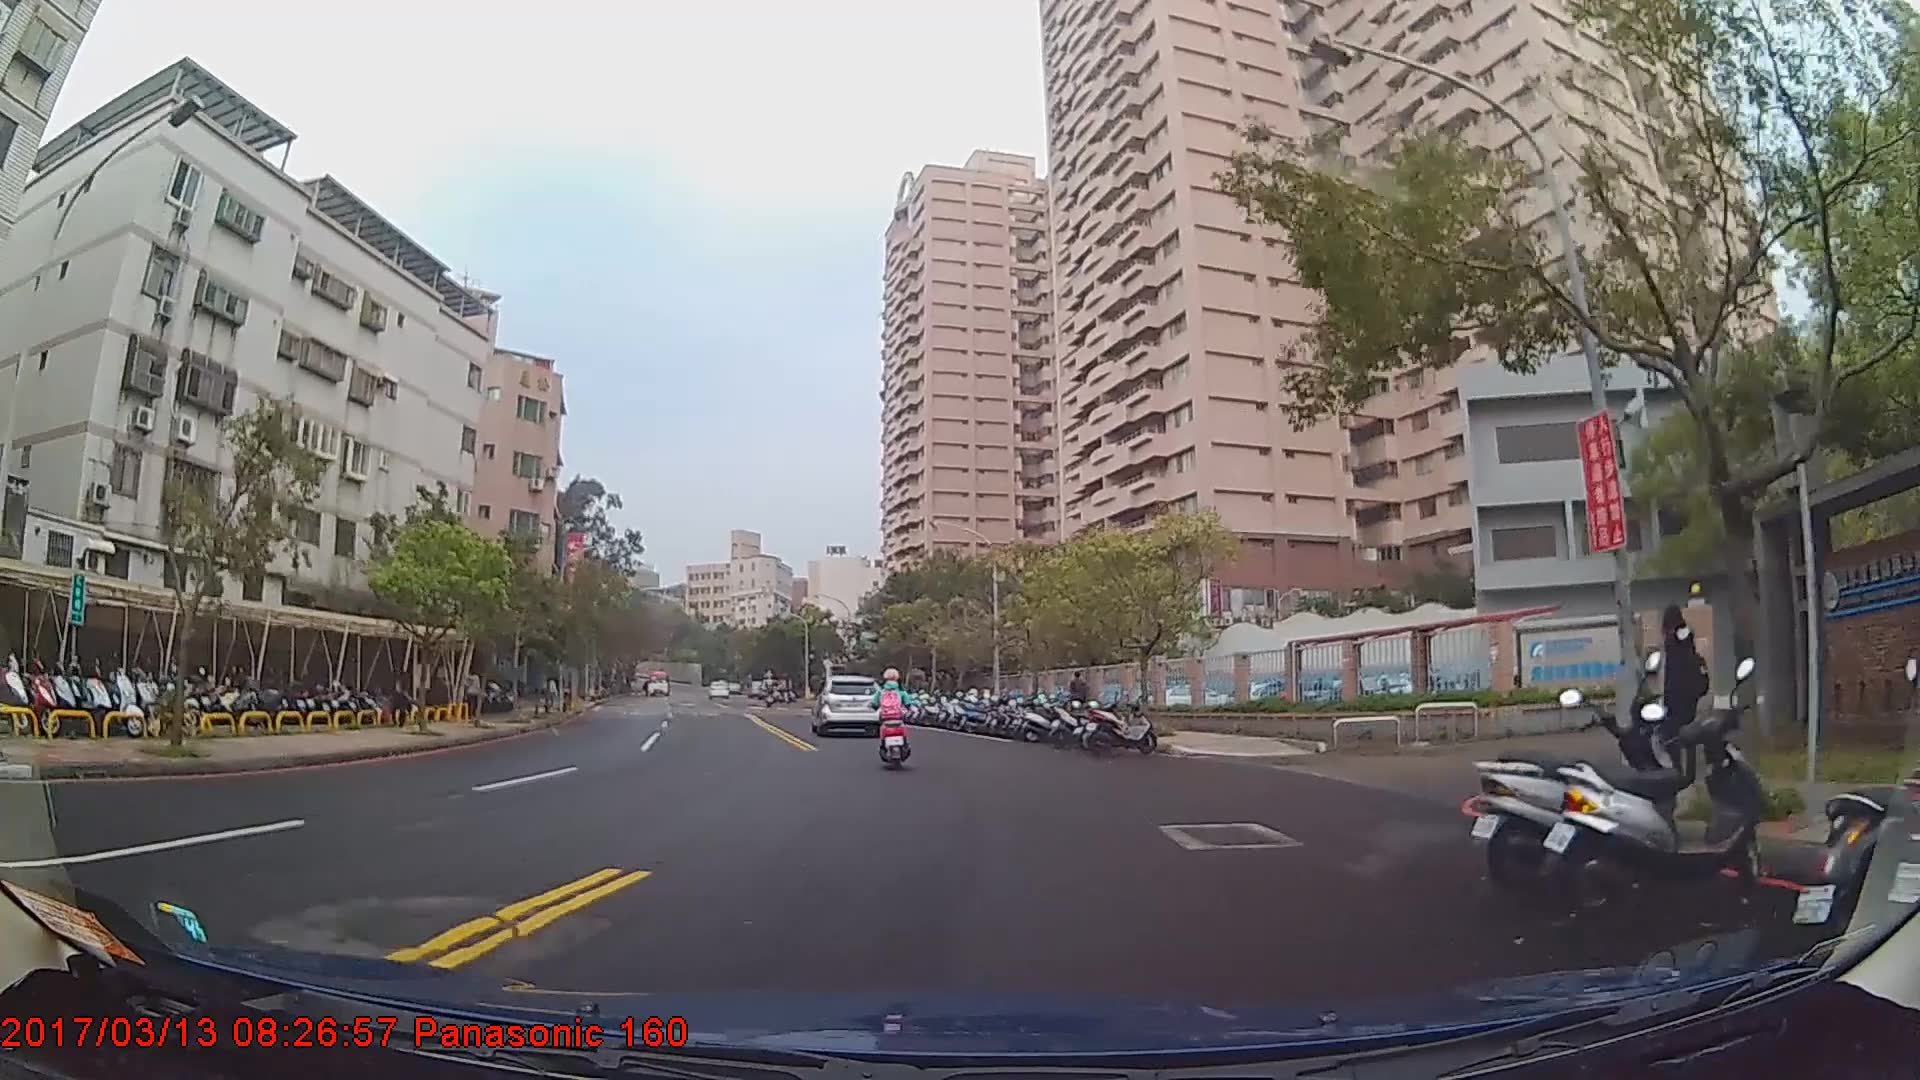pedestrian: (1645, 605, 1715, 788), (385, 667, 412, 733), (1068, 671, 1089, 729)
rider: (873, 669, 916, 767)
vehicle: (808, 673, 885, 738), (642, 669, 670, 698)
